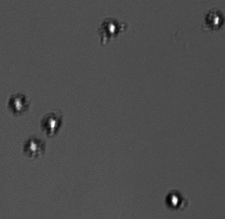Living Cell: (39, 111, 63, 137), (97, 17, 124, 40), (22, 135, 45, 158), (7, 93, 29, 115), (164, 189, 186, 210), (203, 8, 223, 30)
